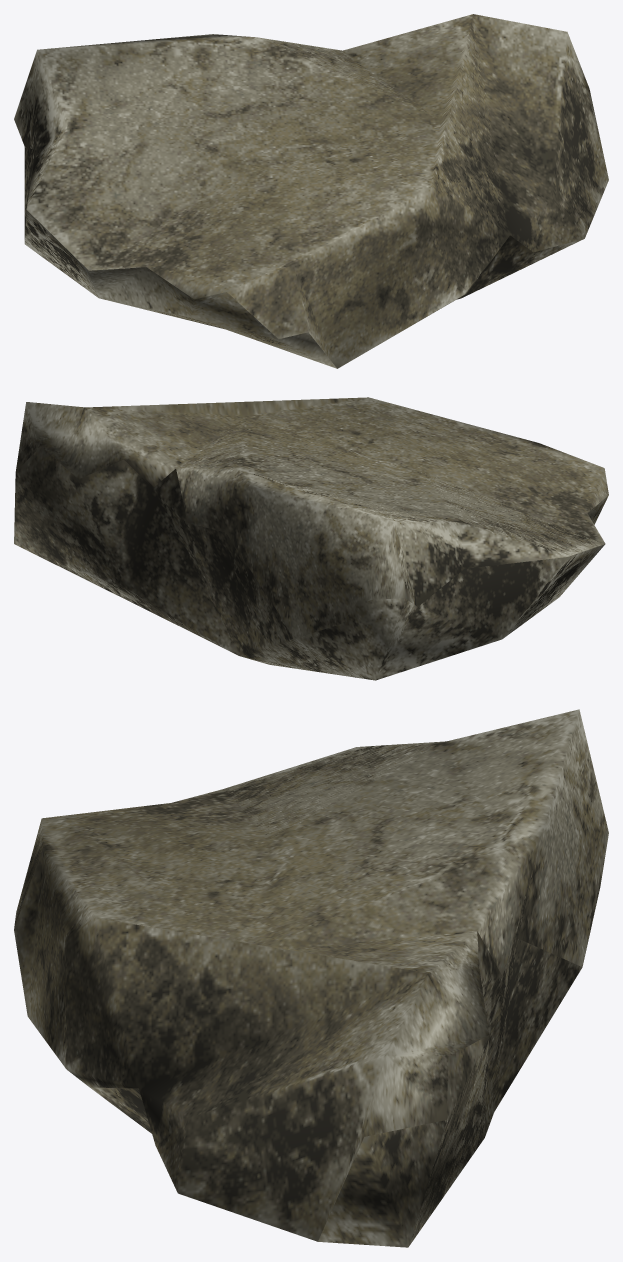
File: SM_GLG_Rock_03_A.glb
The picture shows the model from 3 angles, top to bottom: view 1: azimuth 30°, elevation 25°; view 2: azimuth 150°, elevation 25°; view 3: azimuth 270°, elevation 25°; orthographic projection. The views are drawn at different scales.
Visible parts, largest first — view 1: SM_GLG_Rock_03_A; view 2: SM_GLG_Rock_03_A; view 3: SM_GLG_Rock_03_A.
Part boxes in pixels (<box>): SM_GLG_Rock_03_A: <box>14,14,608,368</box>; SM_GLG_Rock_03_A: <box>14,397,608,680</box>; SM_GLG_Rock_03_A: <box>14,709,608,1247</box>.
Bounding box in the file's own units: 2.16 × 0.8459 × 1.48.
Materials: 1 (1 with a texture image).
